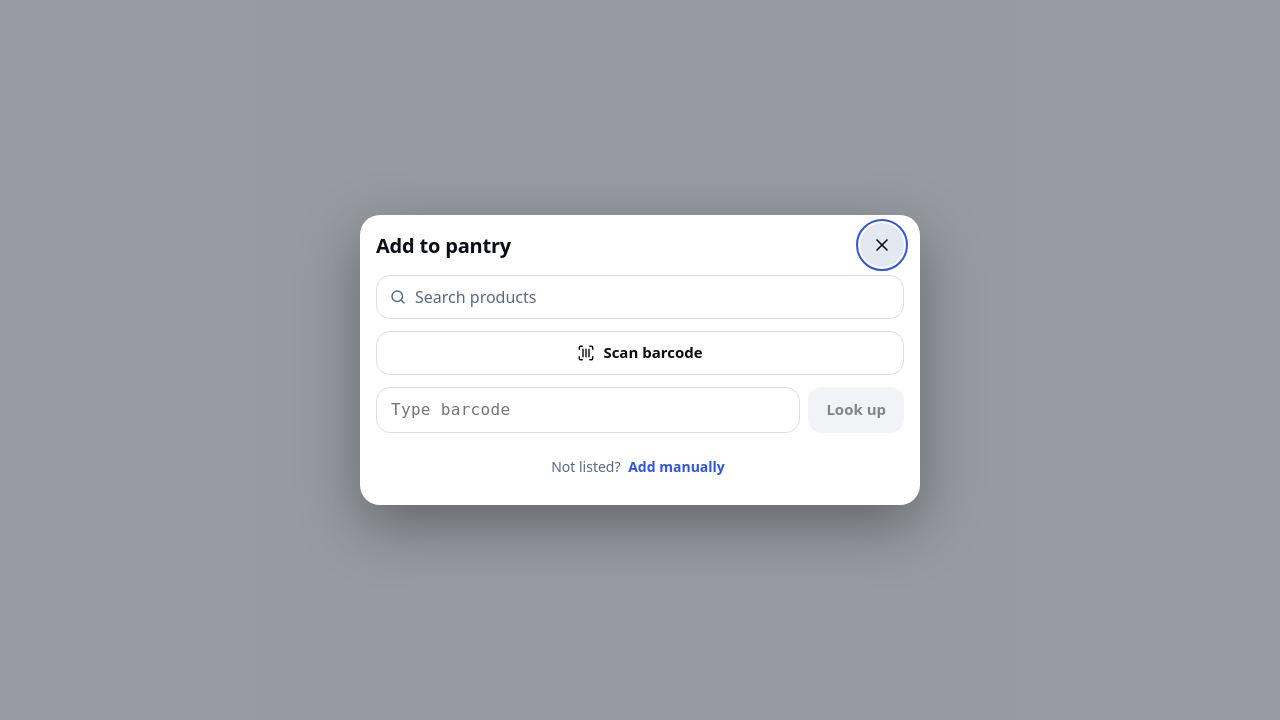
Test case: search unavailable (503) says so, and manual add stays
In the search field named "Search PosoKanei": (653,297) x1=415 y1=276 x2=891 y2=318, type "feta"
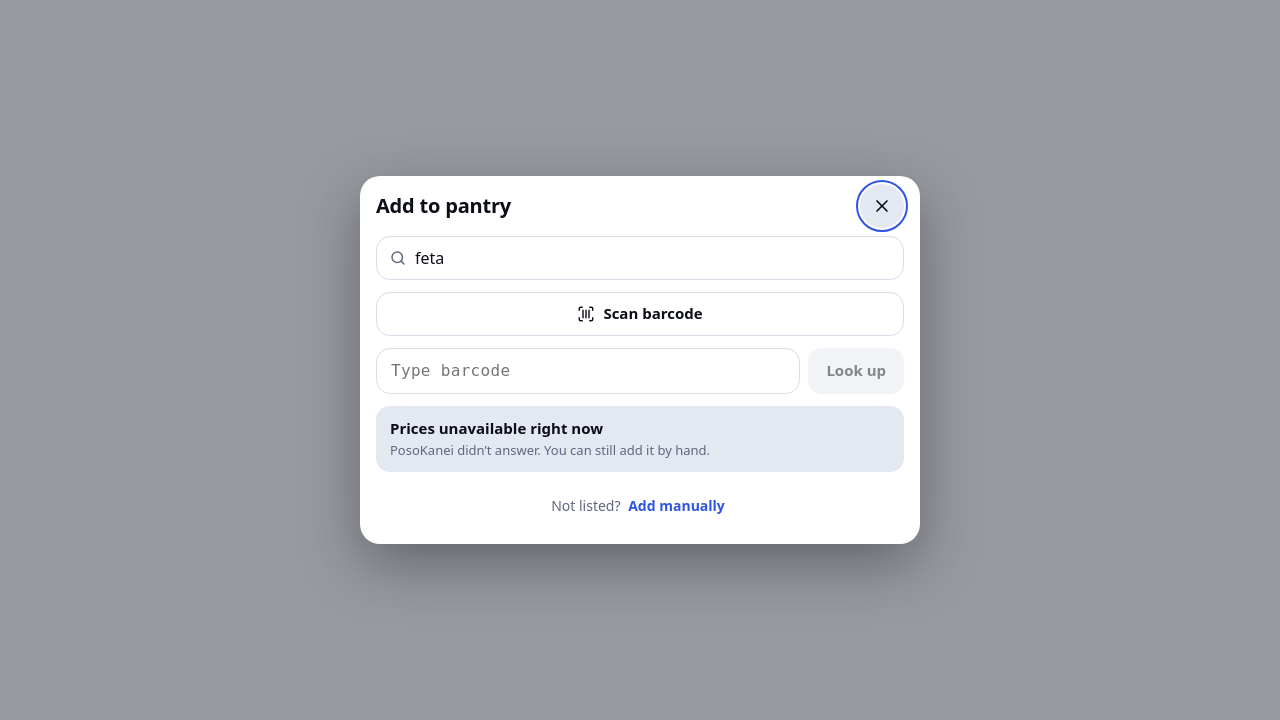
expect the button "Add manually" is enabled: met, box x1=624 y1=484 x2=729 y2=528
expect the text "Prices unavailable right now" is shown: met, box x1=390 y1=418 x2=603 y2=438
